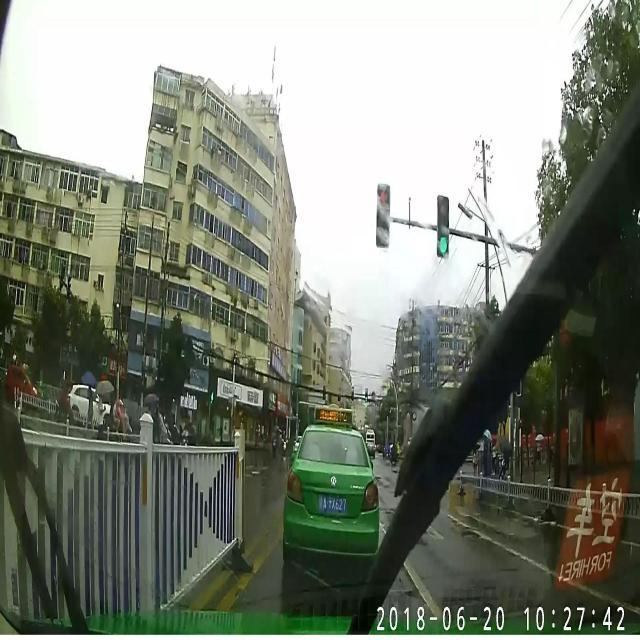car: (280, 404, 380, 568), (69, 381, 115, 426)
